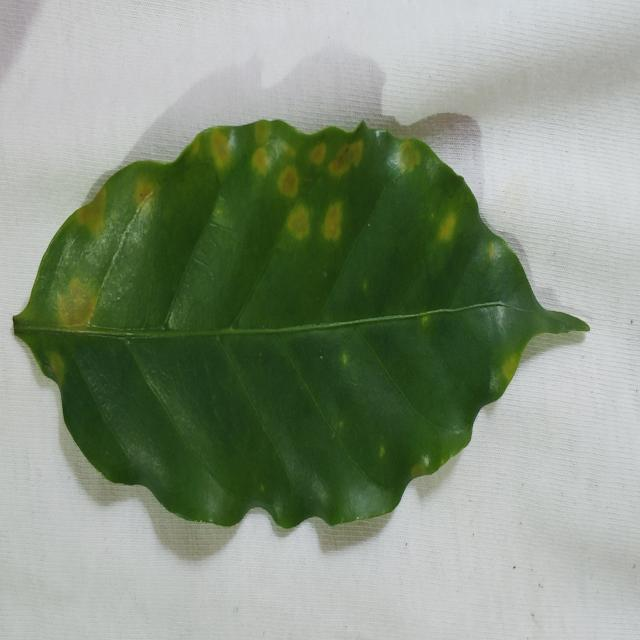Enfermedad-Roya: (12, 120, 589, 538)
